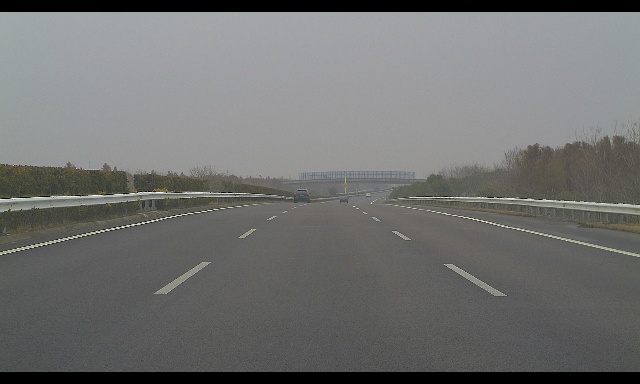car: (294, 189, 311, 203), (339, 196, 349, 203), (366, 193, 371, 198)
